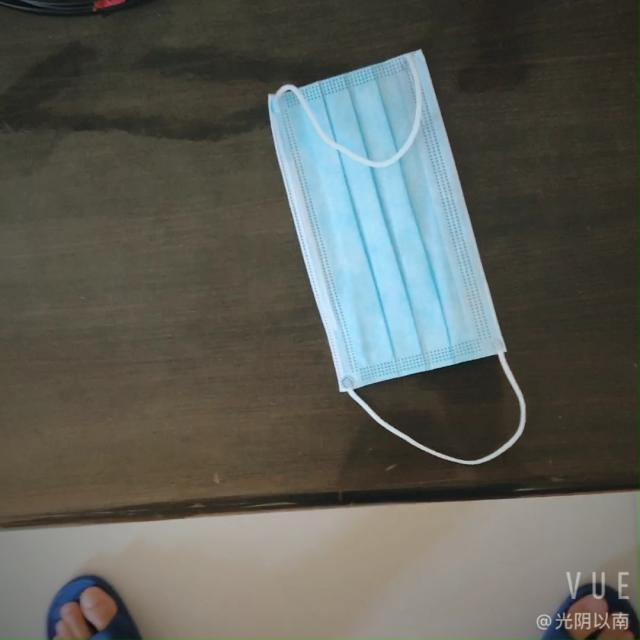non-organic waste: (272, 50, 520, 431)
